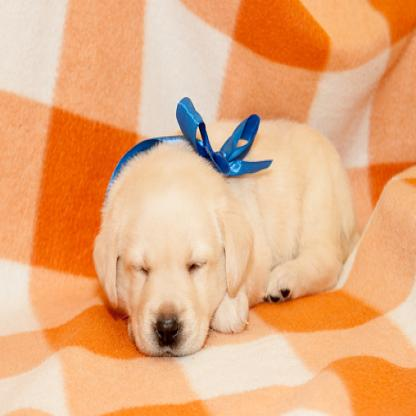dog: (96, 118, 358, 352)
